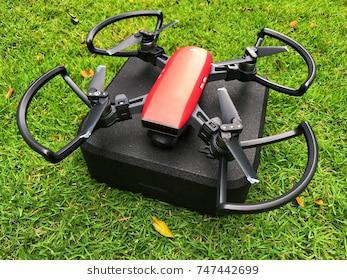drone: (0, 4, 347, 224)
